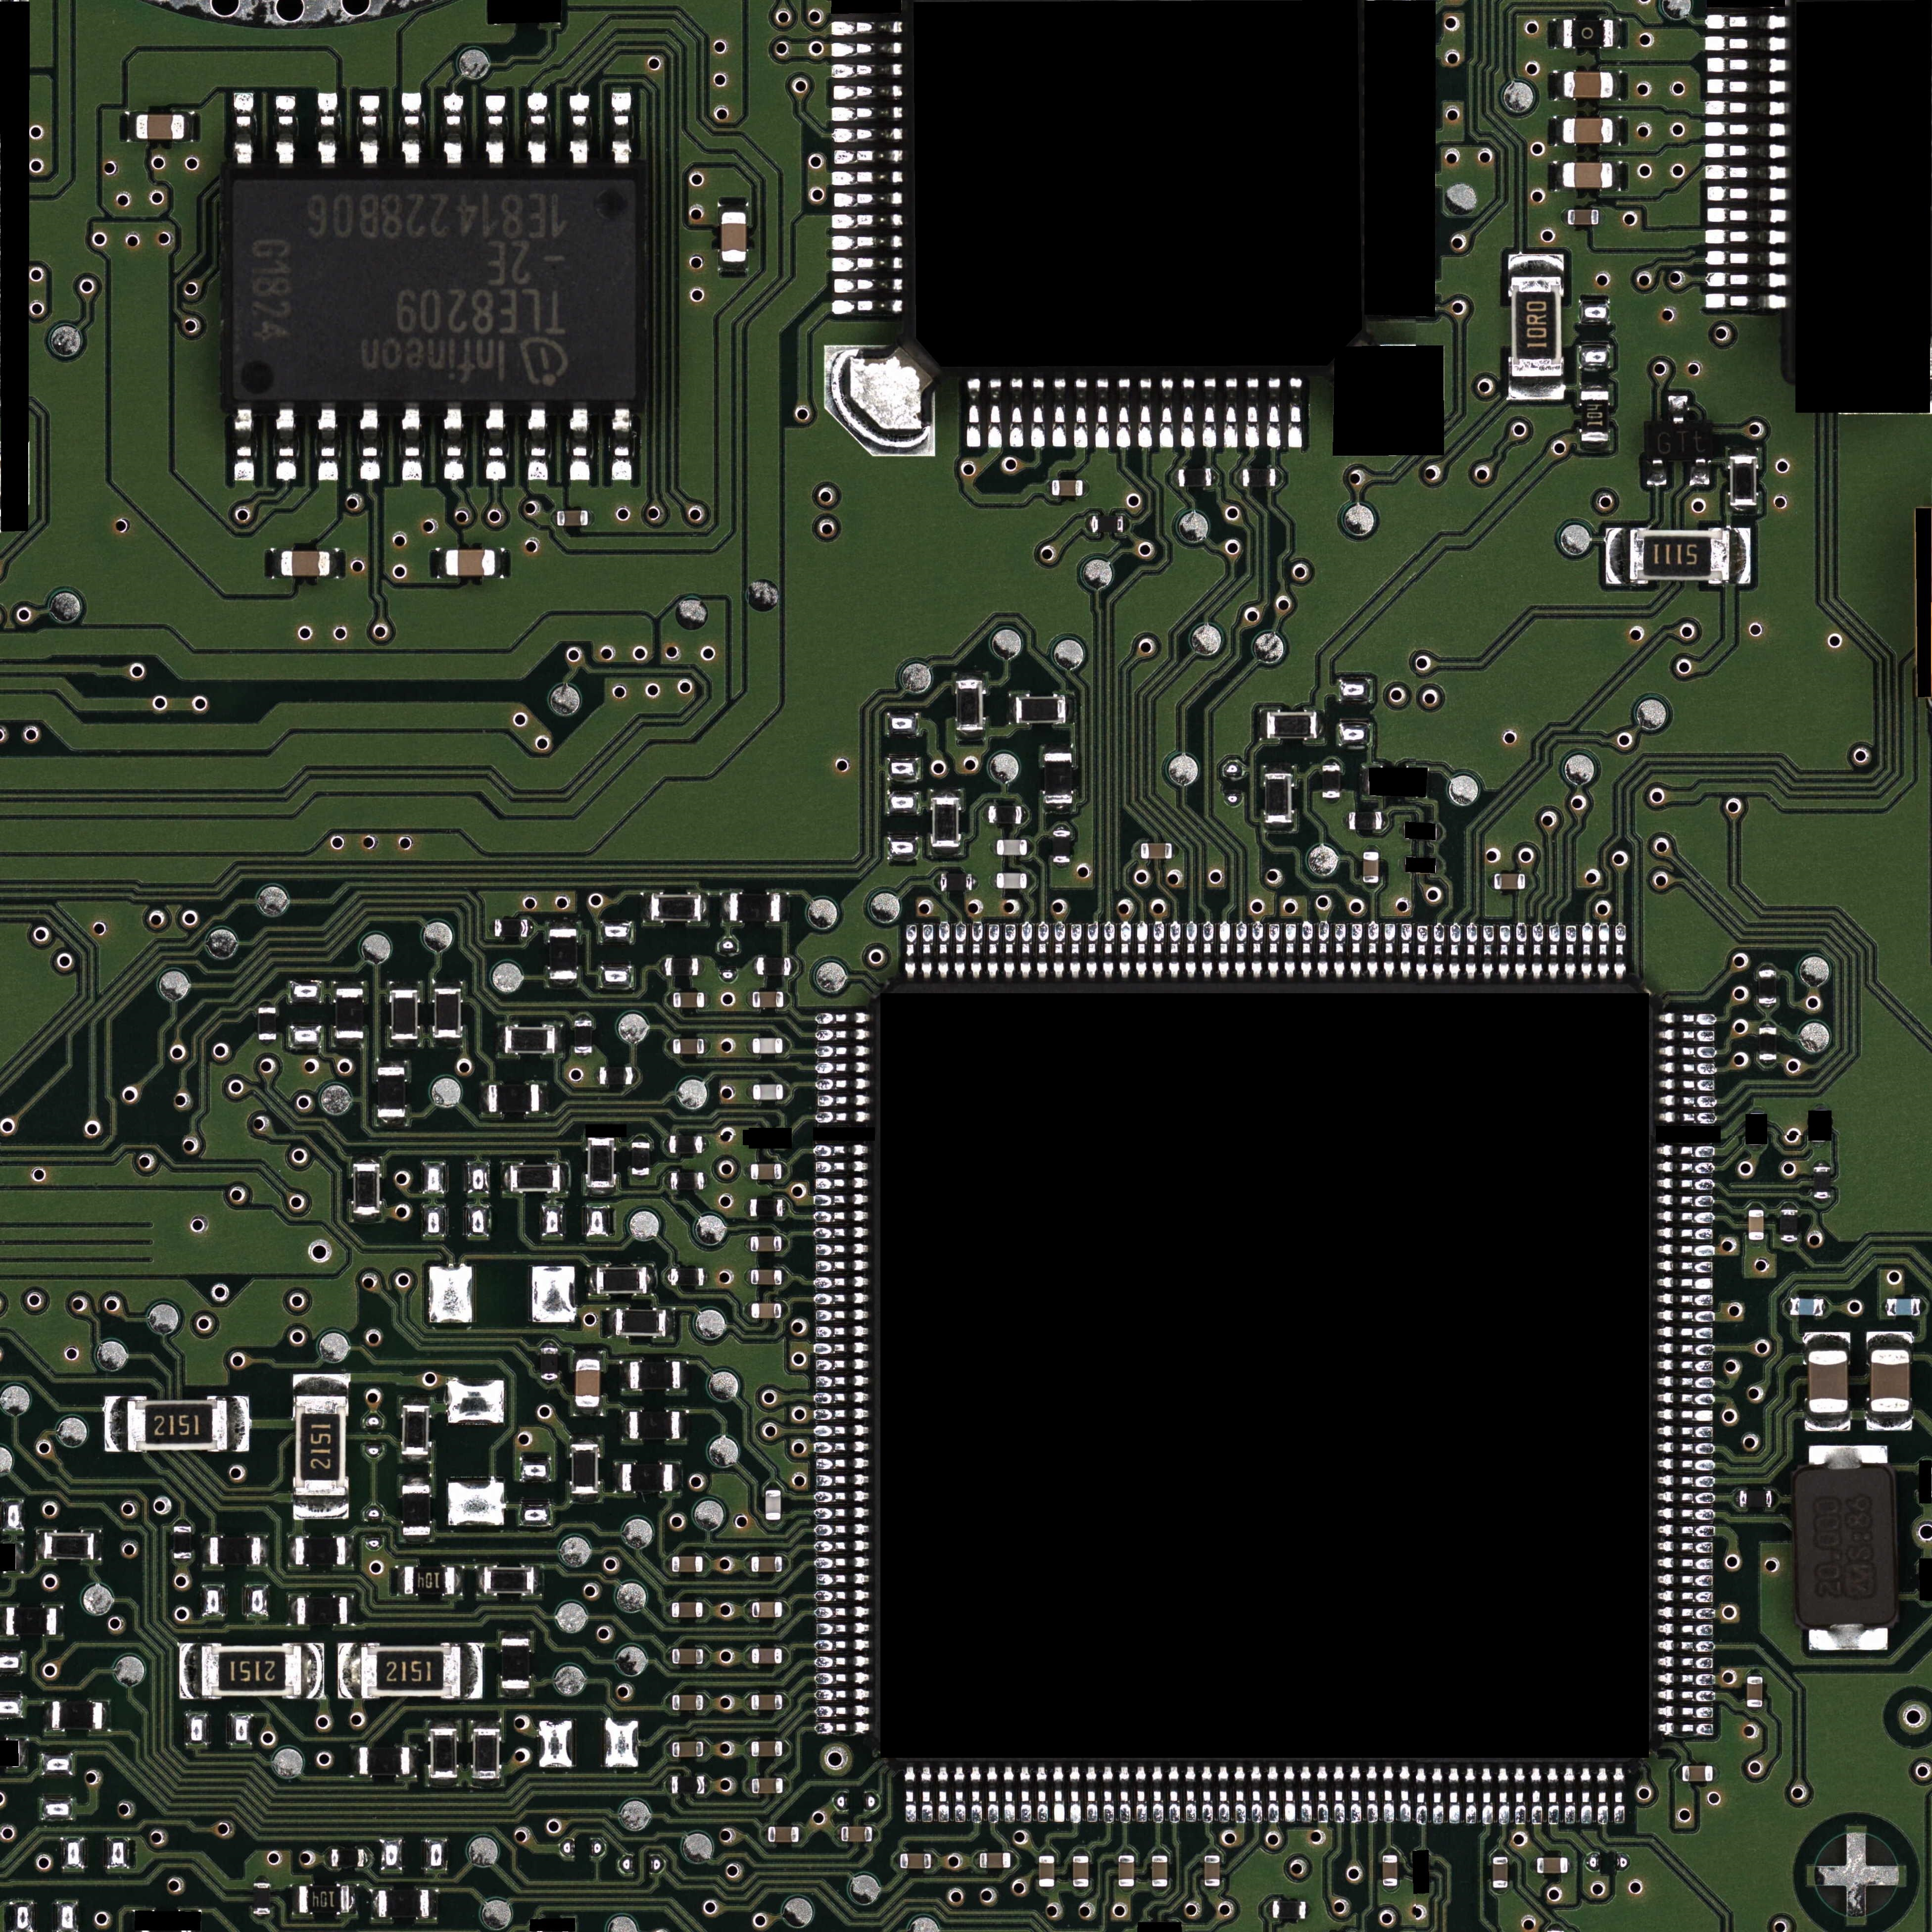Package: (232, 179, 639, 403), (1796, 1468, 1895, 1624), (1629, 529, 1730, 580), (363, 1645, 460, 1698), (295, 1396, 347, 1495), (127, 1399, 226, 1451), (202, 1645, 301, 1697), (1511, 278, 1562, 377), (1808, 1350, 1847, 1414), (1870, 1350, 1909, 1412), (1645, 423, 1711, 458), (729, 893, 780, 922), (5, 1606, 57, 1635), (623, 1463, 672, 1491), (501, 1638, 529, 1688), (402, 1484, 430, 1534), (630, 1412, 679, 1440), (377, 1067, 405, 1116), (1564, 19, 1614, 48), (1044, 754, 1072, 803), (403, 1568, 455, 1594), (51, 1702, 103, 1729), (488, 1085, 540, 1111), (281, 550, 331, 577), (446, 550, 495, 577), (550, 929, 577, 978), (596, 1267, 646, 1293), (359, 1748, 409, 1775), (297, 1598, 347, 1624), (630, 1362, 679, 1389), (295, 1537, 345, 1564), (211, 1537, 260, 1564), (379, 1890, 428, 1916), (616, 1309, 665, 1336), (299, 1886, 349, 1913), (336, 989, 363, 1039), (1582, 391, 1608, 441), (1265, 773, 1292, 823), (932, 798, 959, 847), (957, 679, 982, 731), (1562, 119, 1614, 143), (1730, 455, 1755, 506), (391, 991, 418, 1039), (651, 895, 701, 920), (722, 212, 747, 262), (485, 1568, 534, 1592), (474, 1729, 499, 1778), (403, 1405, 428, 1454), (571, 1444, 596, 1493), (44, 1534, 94, 1559), (354, 1164, 379, 1214), (432, 1729, 456, 1778), (589, 1138, 614, 1187), (1016, 697, 1065, 722), (1564, 73, 1614, 97), (1267, 713, 1316, 738), (136, 115, 184, 140), (575, 1359, 600, 1407), (511, 1166, 559, 1191), (506, 1028, 554, 1053), (435, 989, 460, 1037), (1564, 163, 1612, 188), (665, 957, 699, 977), (1322, 764, 1341, 798), (1272, 1900, 1306, 1920), (941, 872, 973, 892), (750, 1198, 782, 1217), (989, 805, 1021, 824), (757, 957, 791, 975), (258, 1007, 276, 1040), (671, 1171, 704, 1189), (331, 1849, 364, 1867), (173, 1525, 191, 1559), (1053, 830, 1070, 863), (1242, 469, 1276, 487), (1178, 469, 1212, 487), (1759, 970, 1776, 1003), (1759, 1026, 1776, 1060), (495, 920, 527, 938), (752, 991, 784, 1008), (671, 1136, 702, 1154), (600, 1067, 632, 1085), (671, 1269, 702, 1286), (632, 1143, 649, 1175), (672, 1776, 704, 1794), (253, 1882, 271, 1914), (1350, 812, 1382, 830), (1092, 515, 1123, 533), (1739, 1490, 1771, 1507), (1790, 1299, 1822, 1316), (1888, 1299, 1920, 1316), (1813, 1166, 1831, 1198), (1780, 1210, 1798, 1242), (672, 993, 704, 1008), (541, 1348, 557, 1380), (750, 1164, 782, 1180), (750, 1237, 782, 1253), (575, 1021, 591, 1053), (1362, 851, 1378, 883), (1141, 842, 1173, 858), (1746, 1675, 1762, 1707), (557, 510, 587, 525), (672, 1557, 702, 1573), (752, 1557, 782, 1573), (842, 1826, 872, 1842), (752, 1778, 782, 1794), (752, 1741, 782, 1757), (752, 1601, 782, 1617), (768, 1826, 798, 1842), (752, 1649, 782, 1665), (672, 1649, 702, 1665), (674, 1039, 704, 1054), (672, 1741, 702, 1757), (752, 1039, 782, 1054), (752, 1695, 782, 1711), (672, 1695, 702, 1711), (1495, 874, 1525, 890), (1053, 479, 1083, 495), (996, 872, 1026, 888), (1568, 209, 1598, 225), (996, 840, 1026, 856), (1072, 1856, 1088, 1886), (1152, 1856, 1168, 1886), (1118, 1856, 1134, 1886), (1039, 1856, 1054, 1886), (1748, 1210, 1764, 1240), (980, 1852, 1010, 1868), (1537, 1858, 1568, 1874), (1683, 1766, 1713, 1782), (1205, 1856, 1221, 1886), (752, 1302, 780, 1318), (750, 1270, 782, 1284), (754, 1085, 782, 1100), (672, 1603, 702, 1617), (766, 1490, 780, 1520), (901, 1854, 931, 1868), (1493, 1858, 1507, 1888), (1384, 1856, 1398, 1886)
Solder: (824, 345, 934, 456), (483, 402, 508, 481), (525, 403, 550, 481), (1808, 1628, 1888, 1651), (274, 403, 297, 481), (400, 403, 423, 481), (357, 403, 380, 481), (442, 403, 465, 481), (568, 403, 591, 481), (317, 405, 340, 481), (232, 405, 255, 481), (610, 405, 633, 481), (1808, 1445, 1888, 1467), (232, 92, 255, 165), (400, 92, 423, 165), (525, 92, 548, 165), (568, 94, 591, 165), (357, 96, 380, 165), (610, 92, 632, 165), (317, 94, 338, 165), (442, 94, 464, 165), (274, 94, 295, 165), (485, 96, 506, 165), (1707, 14, 1792, 30), (1706, 165, 1790, 180), (1707, 186, 1792, 202), (338, 1644, 361, 1700), (1509, 377, 1564, 400), (1704, 295, 1790, 310), (228, 1396, 249, 1453), (104, 1396, 126, 1453), (1507, 255, 1564, 276), (1606, 527, 1628, 584), (1707, 37, 1792, 51), (1707, 58, 1792, 73), (1707, 80, 1792, 94), (1704, 101, 1789, 115), (1704, 122, 1789, 136), (1706, 143, 1790, 157), (1706, 230, 1790, 244), (1706, 251, 1790, 265), (1706, 272, 1790, 287), (1707, 209, 1792, 223), (294, 1497, 349, 1518), (303, 1644, 324, 1698), (1180, 375, 1196, 448), (1051, 375, 1067, 448), (1288, 377, 1304, 448), (1138, 377, 1154, 448), (180, 1644, 200, 1700), (1730, 527, 1750, 584), (966, 377, 982, 446), (833, 149, 902, 165), (833, 214, 902, 230), (833, 278, 902, 294), (294, 1375, 349, 1394), (462, 1644, 481, 1698), (1267, 375, 1281, 448), (1246, 375, 1260, 448), (1203, 377, 1217, 449), (1159, 375, 1173, 448), (1030, 375, 1044, 448), (1074, 377, 1088, 449), (1224, 377, 1238, 448), (1010, 377, 1024, 448), (1116, 377, 1131, 448), (987, 377, 1001, 448), (832, 108, 902, 122), (832, 21, 901, 35), (833, 42, 902, 57), (833, 64, 902, 78), (833, 85, 902, 99), (833, 129, 902, 143), (833, 172, 902, 186), (833, 257, 902, 271), (833, 235, 902, 249), (832, 193, 901, 207), (833, 301, 902, 315), (1867, 1412, 1913, 1431), (1095, 377, 1108, 448), (1656, 1375, 1714, 1389), (1805, 1332, 1851, 1350), (1805, 1414, 1851, 1431), (1660, 1062, 1716, 1076), (1658, 1721, 1714, 1736), (1658, 1672, 1714, 1686), (1658, 1622, 1714, 1637), (814, 1391, 869, 1405), (814, 1341, 869, 1355), (814, 1292, 869, 1306), (814, 1440, 869, 1454), (1658, 1424, 1713, 1438), (1658, 1523, 1713, 1537), (1658, 1573, 1713, 1587), (817, 1093, 870, 1108), (816, 1143, 869, 1157), (816, 1242, 869, 1256), (816, 1589, 869, 1603), (816, 1654, 869, 1668), (816, 1688, 869, 1702), (816, 1638, 869, 1652), (1867, 1332, 1913, 1348), (1152, 920, 1164, 978), (1316, 1766, 1329, 1824), (1366, 1766, 1378, 1824), (1332, 1766, 1345, 1824), (1382, 1766, 1394, 1824), (1267, 1766, 1279, 1824), (970, 1766, 982, 1824), (1217, 1766, 1230, 1824), (1201, 1766, 1214, 1824), (1102, 1766, 1115, 1824), (1656, 1392, 1714, 1405), (1431, 1767, 1444, 1826), (1596, 1767, 1608, 1826), (1580, 1767, 1592, 1826), (1497, 1767, 1509, 1826), (1481, 1767, 1493, 1826), (938, 922, 950, 978), (954, 924, 966, 980), (904, 1766, 916, 1822), (1284, 922, 1297, 978), (1366, 922, 1378, 978), (1316, 922, 1329, 978), (1300, 922, 1313, 978), (1201, 922, 1214, 978), (1019, 922, 1031, 978), (1235, 922, 1247, 978), (1251, 922, 1263, 978), (1185, 922, 1198, 978), (1136, 922, 1148, 978), (1102, 922, 1115, 978), (1037, 922, 1049, 978), (1003, 1766, 1016, 1822), (1019, 1766, 1031, 1822), (954, 1766, 966, 1822), (1185, 1766, 1198, 1822), (1152, 1766, 1164, 1822), (1168, 1766, 1180, 1822), (1118, 1766, 1131, 1822), (1069, 1767, 1081, 1824), (1053, 1766, 1065, 1822), (1598, 924, 1610, 980), (1614, 924, 1626, 980), (1582, 924, 1594, 980), (1465, 924, 1477, 980), (1548, 924, 1560, 980), (1514, 924, 1527, 980), (1449, 924, 1461, 980), (1530, 924, 1543, 980), (1660, 1046, 1716, 1058), (1660, 1095, 1716, 1108), (1658, 1145, 1714, 1157), (1660, 1111, 1716, 1123), (1660, 1012, 1716, 1024), (1658, 1161, 1714, 1173), (1658, 1178, 1714, 1191), (1656, 1408, 1713, 1421), (1656, 1359, 1713, 1371), (1656, 1194, 1713, 1207), (1656, 1343, 1713, 1355), (1658, 1309, 1714, 1322), (1658, 1458, 1714, 1470), (1658, 1442, 1714, 1454), (1658, 1476, 1714, 1488), (1658, 1491, 1714, 1504), (1658, 1507, 1714, 1520), (1658, 1591, 1714, 1603), (1447, 1767, 1460, 1824), (1658, 1606, 1714, 1619), (1658, 1656, 1714, 1668), (1546, 1767, 1559, 1824), (1463, 1767, 1476, 1824), (1530, 1767, 1543, 1824), (1658, 1690, 1714, 1702), (1514, 1767, 1527, 1824), (1658, 1706, 1714, 1718), (922, 924, 934, 978), (904, 924, 916, 978), (816, 1046, 870, 1058), (816, 1028, 870, 1040), (816, 1062, 870, 1074), (816, 1077, 870, 1090), (816, 1012, 870, 1024), (814, 1408, 869, 1421), (814, 1424, 869, 1437), (814, 1210, 869, 1223), (814, 1226, 869, 1238), (814, 1194, 869, 1207), (814, 1177, 869, 1189), (814, 1276, 869, 1288), (920, 1767, 932, 1822), (814, 1539, 869, 1552), (814, 1557, 869, 1569), (816, 1622, 870, 1635), (816, 1606, 870, 1619), (1384, 924, 1396, 978), (1399, 924, 1412, 978), (971, 924, 984, 978), (987, 924, 1000, 978), (1350, 924, 1362, 978), (1415, 925, 1428, 980), (1003, 924, 1016, 978), (1334, 924, 1346, 978), (1431, 925, 1444, 980), (1086, 924, 1099, 978), (1053, 924, 1065, 978), (1085, 1767, 1097, 1822), (1481, 925, 1493, 980), (1499, 925, 1511, 980), (1658, 1210, 1713, 1223), (1658, 1260, 1713, 1272), (1658, 1244, 1713, 1256), (1658, 1277, 1713, 1290), (1658, 1293, 1713, 1306), (1658, 1228, 1713, 1240), (1658, 1325, 1713, 1338), (1658, 1557, 1713, 1569), (1658, 1541, 1713, 1553), (1658, 1640, 1713, 1652), (816, 1375, 869, 1387), (816, 1359, 869, 1371), (817, 1111, 870, 1123), (816, 1161, 869, 1173), (816, 1309, 869, 1322), (816, 1325, 869, 1338), (816, 1260, 869, 1272), (816, 1458, 869, 1470), (816, 1474, 869, 1486), (816, 1490, 869, 1502), (816, 1507, 869, 1520), (816, 1523, 869, 1536), (816, 1573, 869, 1585), (816, 1672, 869, 1684), (1564, 925, 1576, 978), (817, 1721, 869, 1734), (817, 1706, 869, 1718), (1169, 920, 1180, 978), (1284, 1766, 1295, 1824), (1350, 1766, 1361, 1824), (987, 1766, 998, 1824), (1399, 1766, 1410, 1824), (1251, 1766, 1261, 1824), (1235, 1766, 1246, 1824), (1269, 922, 1279, 978), (1219, 922, 1230, 978), (1120, 922, 1131, 978), (1300, 1766, 1311, 1822), (1415, 1767, 1426, 1824), (1037, 1766, 1047, 1822), (1136, 1766, 1146, 1822), (1614, 1767, 1624, 1824), (1564, 1767, 1575, 1824), (938, 1767, 948, 1822), (1070, 924, 1081, 978), (1660, 1030, 1714, 1040), (1660, 1079, 1714, 1090), (1668, 395, 1688, 423), (1690, 460, 1711, 485), (1647, 460, 1667, 485), (16, 1541, 28, 1573), (1065, 694, 1076, 725), (1614, 69, 1624, 101), (1552, 18, 1562, 48), (1552, 161, 1562, 191), (1614, 18, 1624, 48), (1612, 161, 1622, 191), (1553, 71, 1564, 99), (1578, 442, 1612, 451), (389, 980, 421, 989), (288, 1594, 297, 1626), (400, 1476, 432, 1484), (471, 1778, 502, 1787), (345, 1536, 354, 1568), (202, 1536, 211, 1568), (701, 892, 709, 924), (720, 892, 729, 924), (955, 731, 982, 741), (570, 1435, 602, 1444), (665, 1307, 674, 1339), (587, 1265, 596, 1297), (571, 1407, 603, 1415), (547, 978, 579, 987), (621, 1361, 630, 1392), (672, 1461, 681, 1493), (614, 1461, 623, 1493), (1316, 709, 1325, 741), (1580, 382, 1612, 391), (184, 111, 193, 142), (495, 548, 504, 579), (432, 1039, 462, 1047), (377, 1118, 407, 1127), (334, 980, 364, 989), (333, 1039, 363, 1047), (389, 1039, 419, 1047), (476, 1566, 485, 1596), (290, 1884, 299, 1914), (103, 1700, 111, 1730), (350, 1746, 359, 1776), (260, 1536, 269, 1566), (409, 1746, 418, 1776), (471, 1720, 501, 1729), (428, 1720, 458, 1729), (428, 1778, 458, 1787), (455, 1566, 464, 1596), (35, 1530, 44, 1560), (931, 847, 961, 856), (642, 892, 651, 922), (548, 920, 579, 929), (931, 789, 961, 798), (780, 892, 789, 922), (607, 1307, 616, 1338), (586, 1187, 616, 1196), (679, 1361, 688, 1391), (573, 1350, 603, 1359), (679, 1410, 688, 1440), (621, 1410, 630, 1440), (1263, 823, 1293, 832), (1042, 745, 1072, 754), (1258, 709, 1267, 740), (1614, 115, 1622, 145), (1729, 506, 1759, 515), (433, 980, 462, 989), (352, 1214, 380, 1223), (1044, 803, 1072, 812), (1553, 117, 1562, 145), (19, 1739, 28, 1767), (400, 1398, 432, 1405), (288, 1536, 295, 1568), (400, 1456, 432, 1463), (57, 1605, 64, 1637), (430, 1888, 437, 1920), (540, 1083, 547, 1115), (497, 1024, 504, 1056), (481, 1083, 488, 1115), (499, 1690, 531, 1697), (534, 1564, 541, 1596), (1263, 766, 1295, 773), (1361, 766, 1368, 798), (1008, 694, 1016, 725), (1727, 448, 1759, 455), (127, 111, 134, 142), (272, 548, 280, 579), (437, 548, 444, 579), (331, 548, 338, 579), (377, 1060, 407, 1067), (402, 1536, 432, 1543), (347, 1596, 354, 1626), (396, 1566, 403, 1596), (372, 1890, 379, 1920), (94, 1530, 101, 1560), (0, 1606, 7, 1637), (350, 1884, 357, 1914), (718, 262, 748, 269), (718, 203, 748, 211), (561, 1162, 568, 1192), (556, 1024, 563, 1054), (648, 1265, 655, 1295), (502, 1162, 510, 1192), (570, 1495, 600, 1502), (501, 1631, 531, 1638), (955, 672, 985, 679), (352, 1157, 380, 1164), (44, 1702, 51, 1730), (173, 1518, 191, 1527), (364, 1849, 373, 1867), (764, 1481, 782, 1490), (1021, 807, 1030, 824), (745, 1085, 754, 1100), (1771, 1491, 1780, 1507), (488, 920, 495, 938), (324, 1849, 331, 1867), (791, 959, 798, 977), (750, 957, 757, 975), (658, 959, 665, 977), (745, 1039, 754, 1053), (632, 1175, 649, 1182), (665, 1776, 672, 1794), (782, 1601, 789, 1619), (782, 1555, 789, 1573), (704, 1776, 711, 1794), (782, 1647, 789, 1665), (782, 1693, 789, 1711), (745, 1601, 752, 1619), (1210, 469, 1217, 487), (1276, 469, 1283, 487), (1237, 469, 1244, 487), (1083, 479, 1090, 497), (1323, 759, 1341, 766), (1382, 812, 1389, 830), (1759, 1003, 1776, 1010), (1746, 1145, 1764, 1152), (1920, 1299, 1927, 1316), (1759, 1060, 1776, 1067), (1813, 1198, 1831, 1205), (1783, 1299, 1790, 1316), (1822, 1299, 1829, 1316), (1881, 1299, 1888, 1316), (255, 1914, 271, 1921), (934, 874, 941, 890), (527, 920, 534, 936), (973, 874, 980, 890), (745, 1302, 752, 1318), (743, 1200, 750, 1215), (784, 993, 791, 1008), (782, 1269, 789, 1284), (784, 1037, 791, 1053), (782, 1302, 789, 1318), (747, 991, 754, 1007), (702, 1136, 709, 1152), (782, 1200, 789, 1215), (541, 1341, 557, 1348), (784, 1085, 791, 1100), (782, 1164, 789, 1180), (575, 1014, 591, 1021), (704, 1173, 711, 1189), (575, 1053, 591, 1060), (632, 1069, 639, 1085), (697, 959, 704, 975), (663, 1136, 671, 1152), (782, 1778, 789, 1794), (766, 1520, 782, 1527), (761, 1826, 768, 1842), (798, 1826, 805, 1842), (782, 1741, 789, 1757), (745, 1778, 752, 1794), (702, 1557, 709, 1573), (835, 1826, 842, 1842), (702, 1601, 709, 1617), (745, 1741, 752, 1757), (665, 1649, 672, 1665), (704, 1741, 711, 1757), (665, 1741, 672, 1757), (745, 1695, 752, 1711), (665, 1695, 672, 1711), (1123, 517, 1131, 533), (1085, 517, 1092, 533), (1343, 814, 1350, 830), (1152, 1849, 1168, 1856), (1118, 1849, 1134, 1856), (1437, 824, 1444, 840), (1748, 1203, 1764, 1210), (1748, 1240, 1764, 1247), (1782, 1240, 1798, 1247), (255, 1875, 269, 1882), (587, 511, 594, 525), (550, 511, 557, 525), (667, 993, 674, 1007), (667, 1039, 674, 1053), (782, 1237, 789, 1251), (704, 993, 711, 1007), (743, 1164, 750, 1178), (704, 1039, 711, 1053), (665, 1557, 672, 1571), (745, 1557, 752, 1571), (665, 1603, 672, 1617), (893, 1854, 901, 1868), (745, 1649, 752, 1663), (973, 1854, 980, 1868), (1171, 844, 1178, 858), (1364, 846, 1378, 853), (1054, 862, 1069, 869), (1026, 840, 1033, 855), (1074, 1886, 1088, 1893), (1154, 1886, 1168, 1893), (1120, 1886, 1134, 1893), (1205, 1849, 1219, 1856), (1010, 1854, 1017, 1868), (1598, 211, 1605, 225), (258, 1040, 276, 1046), (173, 1559, 191, 1564), (632, 1136, 649, 1141), (594, 1067, 600, 1085), (1053, 824, 1070, 830), (1759, 1021, 1776, 1026), (1810, 1141, 1828, 1146), (1780, 1203, 1798, 1208), (1812, 1104, 1829, 1109), (1435, 860, 1442, 872), (258, 1001, 274, 1007), (541, 1380, 557, 1385), (665, 1173, 671, 1189), (704, 1269, 709, 1284), (665, 1269, 671, 1284), (704, 1649, 709, 1665), (704, 1695, 709, 1711), (1173, 469, 1178, 485), (1046, 479, 1051, 495), (1323, 798, 1339, 803), (1399, 823, 1405, 839), (1072, 1851, 1088, 1856), (1562, 209, 1568, 225), (1759, 964, 1775, 970), (1750, 1108, 1766, 1113), (1813, 1161, 1829, 1166), (1746, 1670, 1762, 1675), (1734, 1491, 1739, 1507), (1746, 1707, 1762, 1713), (745, 1270, 750, 1284), (745, 1237, 750, 1251), (872, 1828, 878, 1842), (932, 1854, 938, 1868), (1364, 883, 1378, 888), (991, 874, 996, 888), (991, 840, 996, 855), (984, 807, 989, 821), (1136, 844, 1141, 858), (1026, 874, 1031, 888), (1040, 1888, 1054, 1893), (1040, 1851, 1054, 1856), (1306, 1902, 1311, 1916), (1384, 1849, 1398, 1854), (1205, 1888, 1219, 1893), (1490, 874, 1495, 888), (1493, 1851, 1507, 1856), (1568, 1858, 1573, 1872), (1493, 1888, 1507, 1893), (1713, 1766, 1718, 1780), (1399, 858, 1405, 870), (1267, 1904, 1272, 1916), (1525, 876, 1530, 888), (1532, 1859, 1537, 1872), (1677, 1767, 1683, 1780), (1384, 1886, 1398, 1890)
